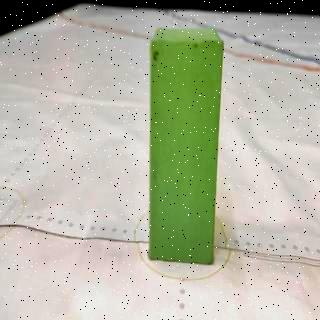greenbox: (148, 29, 224, 270)
